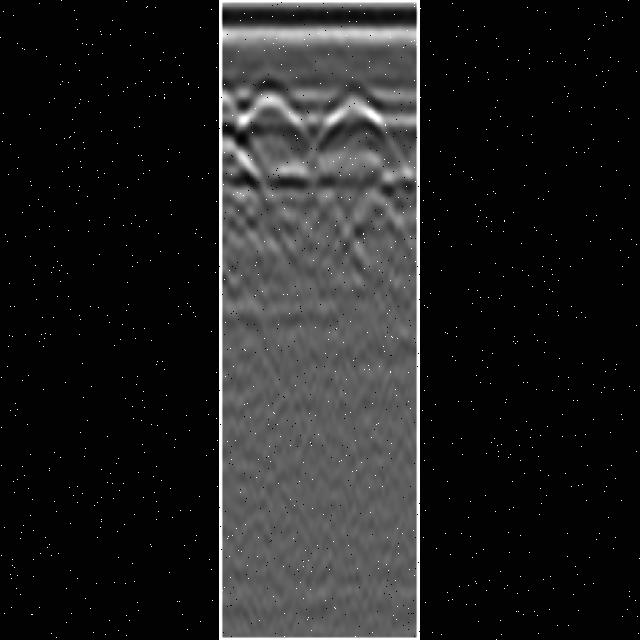hyperbola: (238, 88, 304, 154), (324, 84, 386, 154)
